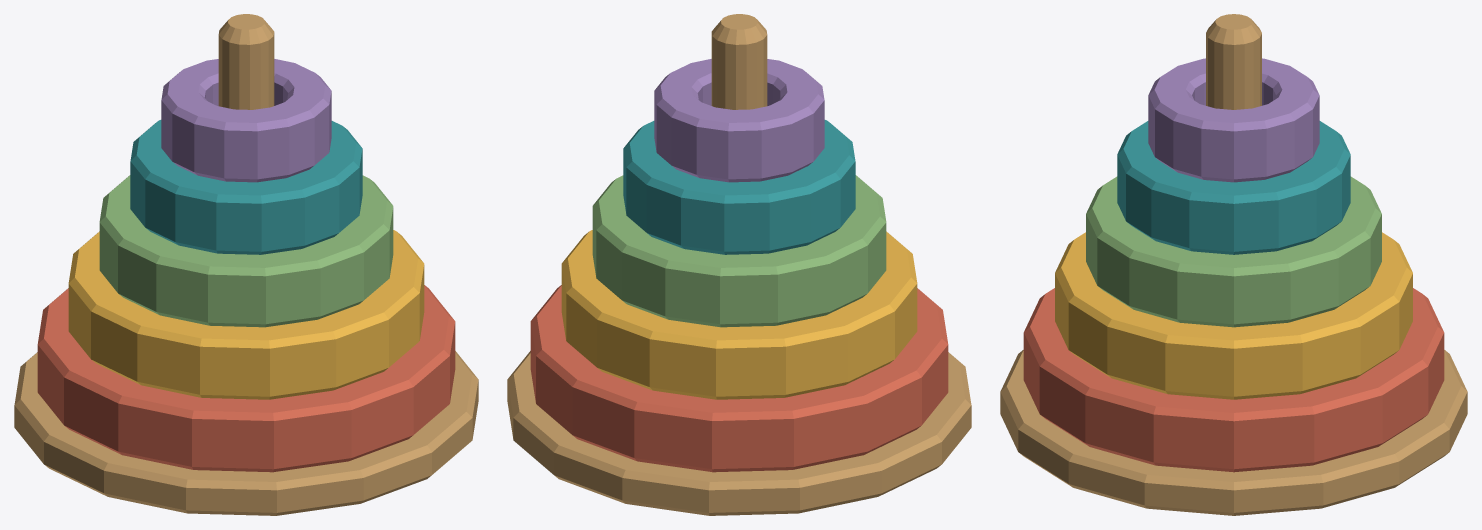
3 views of the same model, side by side, from view 1: azimuth 30°, elevation 25°; view 2: azimuth 150°, elevation 25°; view 3: azimuth 270°, elevation 25° (orthographic).
Visible parts, largest first — view 1: Ring1_CompleteBoredChamferedBody, Ring2_CompleteBoredChamferedBody, Ring3_CompleteBoredChamferedBody, BroadChamferedDiscBase, Ring4_CompleteBoredChamferedBody, Ring5_CompleteBoredChamferedBody, StraightFixedCentralPeg; view 2: Ring1_CompleteBoredChamferedBody, Ring2_CompleteBoredChamferedBody, Ring3_CompleteBoredChamferedBody, BroadChamferedDiscBase, Ring4_CompleteBoredChamferedBody, Ring5_CompleteBoredChamferedBody, StraightFixedCentralPeg; view 3: Ring1_CompleteBoredChamferedBody, Ring2_CompleteBoredChamferedBody, Ring3_CompleteBoredChamferedBody, BroadChamferedDiscBase, Ring4_CompleteBoredChamferedBody, Ring5_CompleteBoredChamferedBody, StraightFixedCentralPeg.
Part boxes in pixels (x1=…): Ring1_CompleteBoredChamferedBody: x1=37, y1=285, x2=455, y2=472; Ring2_CompleteBoredChamferedBody: x1=68, y1=230, x2=424, y2=399; Ring3_CompleteBoredChamferedBody: x1=99, y1=175, x2=393, y2=327; BroadChamferedDiscBase: x1=14, y1=351, x2=478, y2=515; Ring4_CompleteBoredChamferedBody: x1=130, y1=120, x2=362, y2=254; Ring5_CompleteBoredChamferedBody: x1=161, y1=59, x2=331, y2=182; StraightFixedCentralPeg: x1=218, y1=14, x2=274, y2=109; Ring1_CompleteBoredChamferedBody: x1=530, y1=285, x2=948, y2=472; Ring2_CompleteBoredChamferedBody: x1=561, y1=230, x2=917, y2=399; Ring3_CompleteBoredChamferedBody: x1=592, y1=175, x2=886, y2=327; BroadChamferedDiscBase: x1=507, y1=351, x2=971, y2=515; Ring4_CompleteBoredChamferedBody: x1=623, y1=120, x2=855, y2=254; Ring5_CompleteBoredChamferedBody: x1=654, y1=59, x2=824, y2=182; StraightFixedCentralPeg: x1=711, y1=14, x2=767, y2=109; Ring1_CompleteBoredChamferedBody: x1=1023, y1=288, x2=1444, y2=472; Ring2_CompleteBoredChamferedBody: x1=1055, y1=232, x2=1412, y2=399; Ring3_CompleteBoredChamferedBody: x1=1086, y1=176, x2=1381, y2=327; BroadChamferedDiscBase: x1=1000, y1=350, x2=1467, y2=515; Ring4_CompleteBoredChamferedBody: x1=1117, y1=121, x2=1350, y2=254; Ring5_CompleteBoredChamferedBody: x1=1148, y1=58, x2=1319, y2=182; StraightFixedCentralPeg: x1=1206, y1=14, x2=1261, y2=109.
Bounding box in the file's own units: 0.3 × 0.282 × 0.3.
